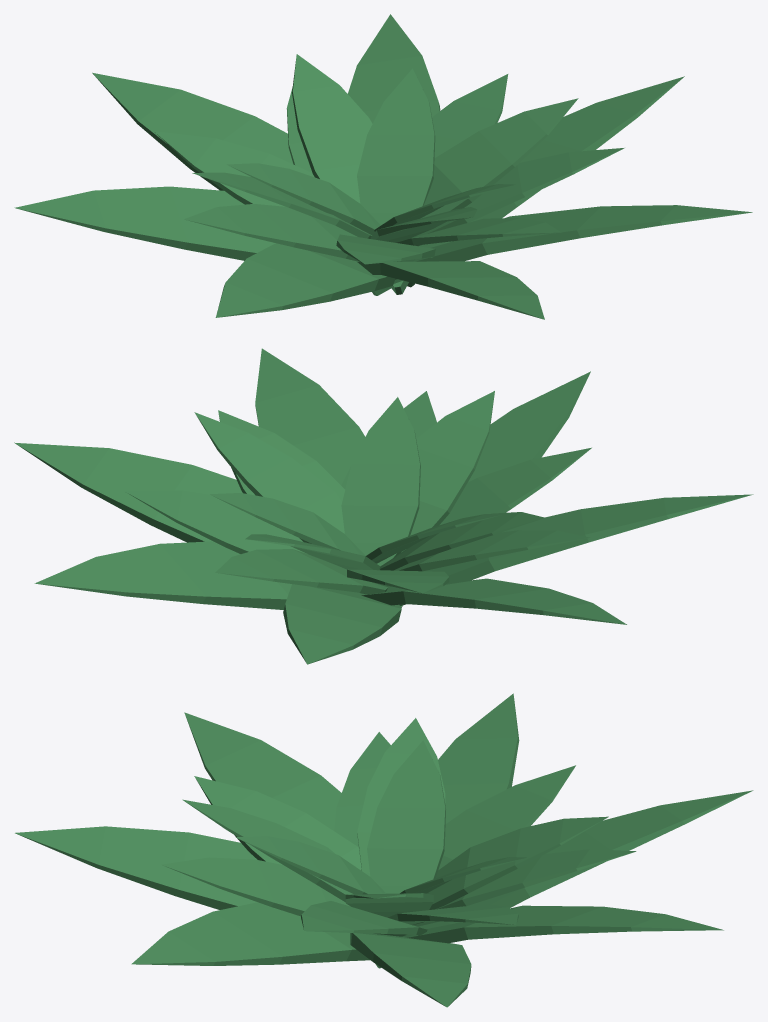
The model's file is Farn dunkelgrün 2.fbx.
3 views of the same model, one above another, from view 1: azimuth 30°, elevation 25°; view 2: azimuth 150°, elevation 25°; view 3: azimuth 270°, elevation 25° (orthographic).
Parts seen in each view (by area): view 1: Farn_dunkelgrün_2; view 2: Farn_dunkelgrün_2; view 3: Farn_dunkelgrün_2.
Boxes of the visible parts, bbox=[...] form: Farn_dunkelgrün_2: bbox=[14, 14, 752, 319]; Farn_dunkelgrün_2: bbox=[14, 348, 753, 664]; Farn_dunkelgrün_2: bbox=[15, 693, 753, 1007].
Bounding box in the file's own units: 483 × 108 × 480.
